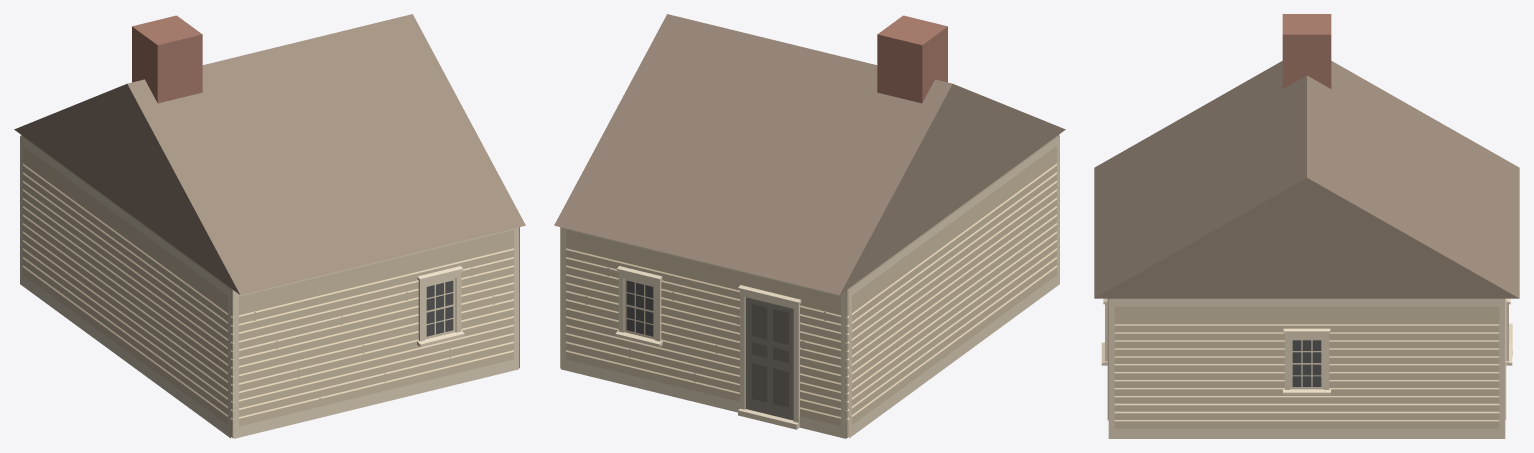
File: recon_1835_blk_indiana_north_cass_d3_02__inferred_1835.glb
3 views of the same model, side by side, from view 1: azimuth 30°, elevation 25°; view 2: azimuth 150°, elevation 25°; view 3: azimuth 270°, elevation 25° (orthographic). The views are drawn at different scales.
Parts seen in each view (by area): view 1: recon_1835_blk_indiana_north_cass_d3_02__inferred_1835; view 2: recon_1835_blk_indiana_north_cass_d3_02__inferred_1835; view 3: recon_1835_blk_indiana_north_cass_d3_02__inferred_1835.
Boxes of the visible parts, x1,y1,x2,y2 form: recon_1835_blk_indiana_north_cass_d3_02__inferred_1835: (14, 14, 525, 438); recon_1835_blk_indiana_north_cass_d3_02__inferred_1835: (554, 14, 1065, 438); recon_1835_blk_indiana_north_cass_d3_02__inferred_1835: (1094, 14, 1519, 438).
Size of the model in its own units: 5.51 by 5.75 by 7.36.
